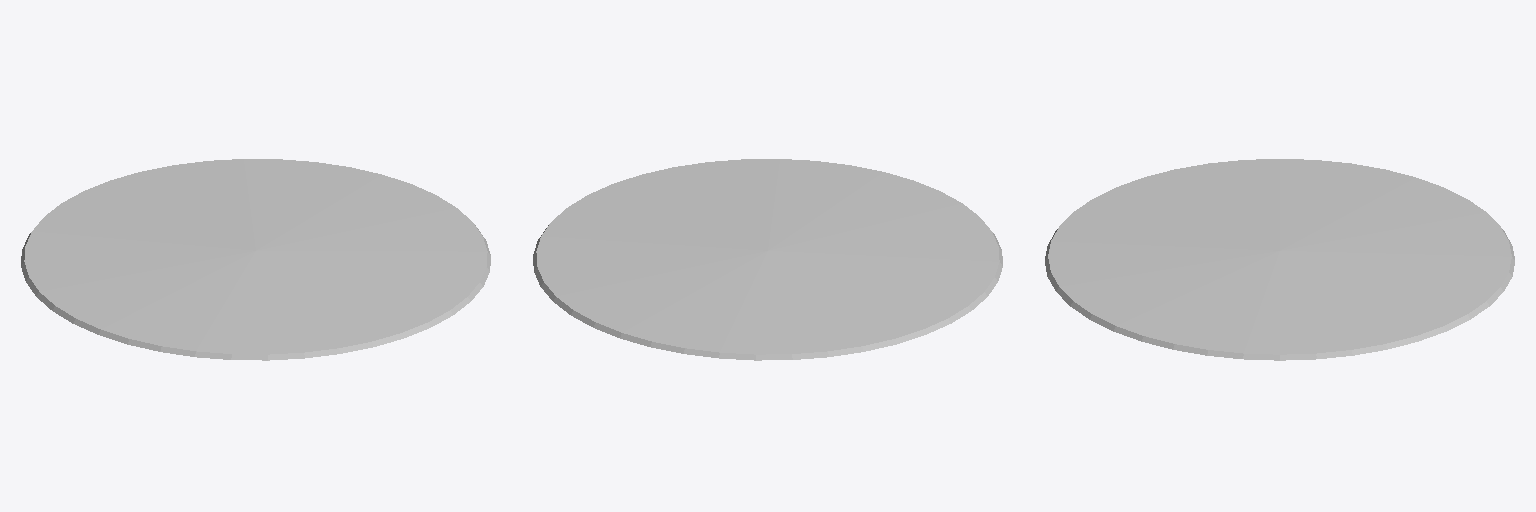
The model's file is Manhole_LOD0.obj.
3 renders of one model, left to right at view 1: azimuth 30°, elevation 25°; view 2: azimuth 150°, elevation 25°; view 3: azimuth 270°, elevation 25°, orthographic.
Parts seen in each view (by area): view 1: Manhole_LOD0 Manhole; view 2: Manhole_LOD0 Manhole; view 3: Manhole_LOD0 Manhole.
Part boxes in pixels (bbox=[...]): Manhole_LOD0 Manhole: bbox=[21, 159, 490, 360]; Manhole_LOD0 Manhole: bbox=[533, 159, 1002, 360]; Manhole_LOD0 Manhole: bbox=[1045, 159, 1514, 360].
Size of the model in its own units: 112 by 2.73 by 112.